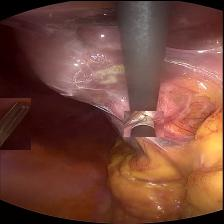Grasper: (0, 97, 31, 149)
Hook: (124, 110, 164, 136)
